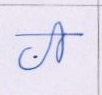i_matra: (53, 22, 65, 62)
